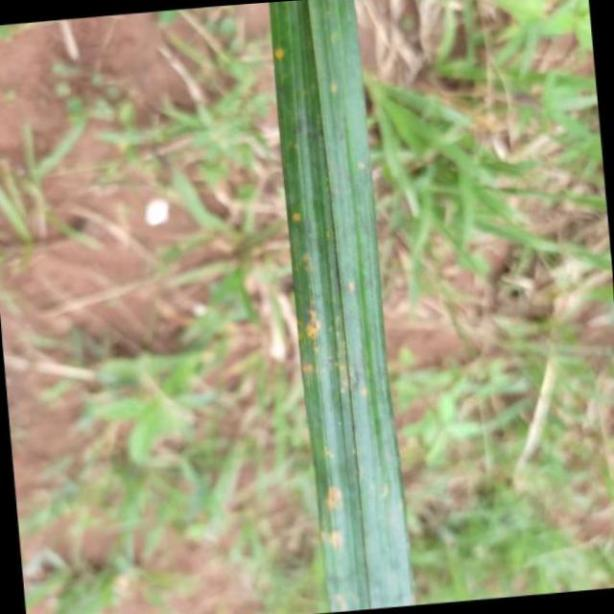Kalium: (259, 0, 416, 614)
